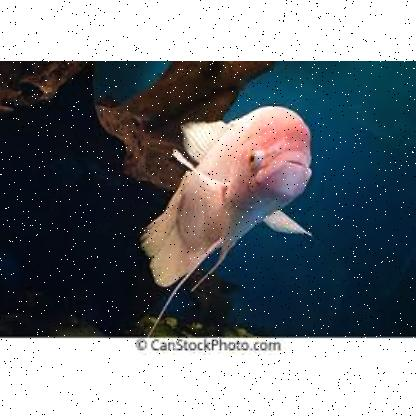gurame: (137, 100, 323, 292)
